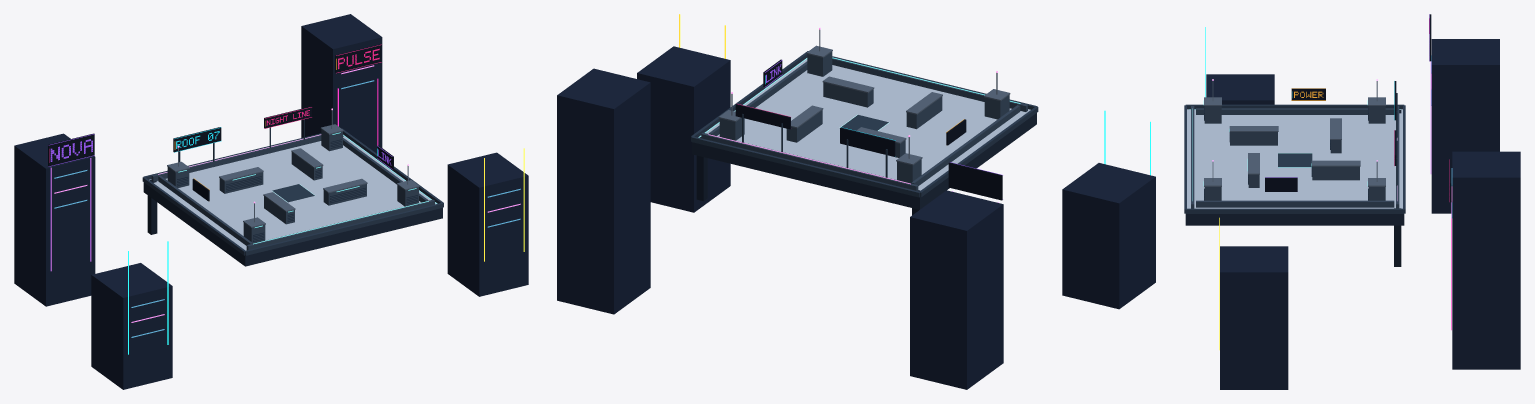
Rendered from foundry.glb.
3 renders of one model, left to right at view 1: azimuth 30°, elevation 25°; view 2: azimuth 150°, elevation 25°; view 3: azimuth 270°, elevation 25°, orthographic. The views are drawn at different scales.
Parts seen in each view (by area): view 1: 네온 옥상, Floor_Concrete, Neon_NOVA, Neon_PULSE, Neon_ROOF_07, Neon_NIGHT_LINE; view 2: 네온 옥상, Floor_Concrete, Neon_NOVA, Neon_ROOF_07, Neon_NIGHT_LINE; view 3: 네온 옥상, Floor_Concrete, Neon_LINK, Neon_POWER.
Boxes of the visible parts, <box> form: 네온 옥상: <box>14,14,528,389</box>; Floor_Concrete: <box>149,135,436,250</box>; Neon_NOVA: <box>48,133,94,166</box>; Neon_PULSE: <box>335,44,381,73</box>; Neon_ROOF_07: <box>173,127,221,152</box>; Neon_NIGHT_LINE: <box>264,106,311,128</box>; 네온 옥상: <box>557,14,1155,389</box>; Floor_Concrete: <box>698,58,1030,190</box>; Neon_NOVA: <box>948,162,1002,200</box>; Neon_ROOF_07: <box>840,127,895,156</box>; Neon_NIGHT_LINE: <box>735,103,790,129</box>; 네온 옥상: <box>1184,27,1520,389</box>; Floor_Concrete: <box>1187,109,1402,208</box>; Neon_LINK: <box>1265,177,1297,191</box>; Neon_POWER: <box>1291,88,1325,100</box>.
Bounding box in the file's own units: 75 × 31 × 49.2.
